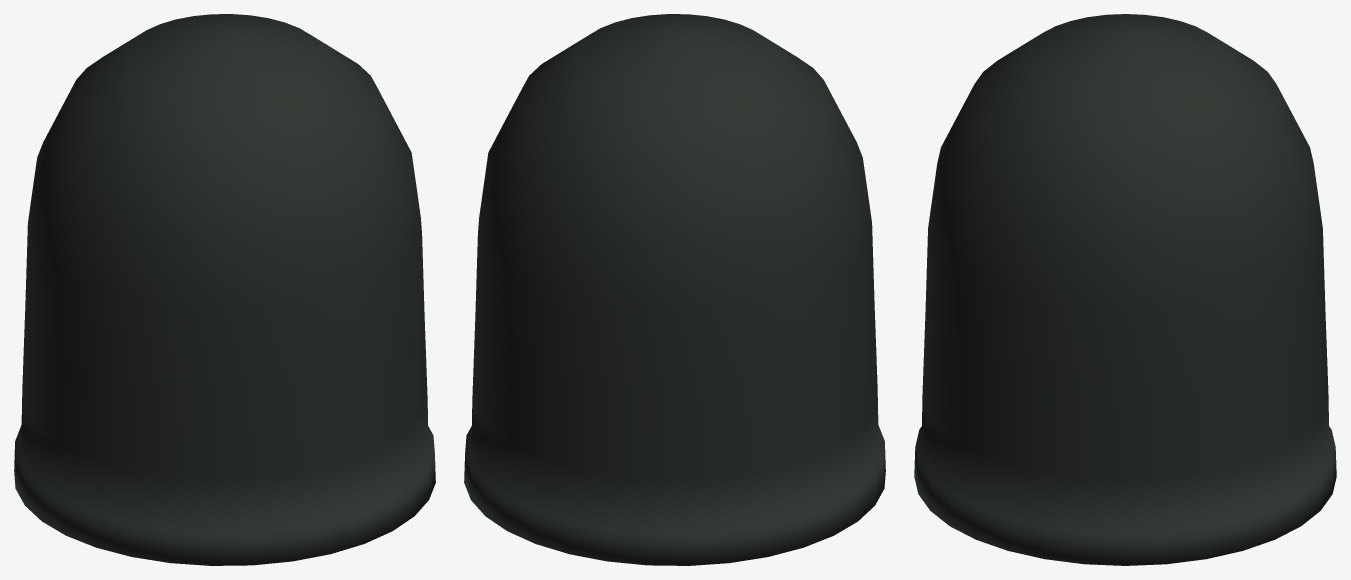
File: bell.obj
3 renders of one model, left to right at view 1: azimuth 30°, elevation 25°; view 2: azimuth 150°, elevation 25°; view 3: azimuth 270°, elevation 25°, orthographic.
Parts seen in each view (by area): view 1: 円柱; view 2: 円柱; view 3: 円柱.
Part boxes in pixels (x1,y1,x2,y2): 円柱: (14, 14, 435, 565); 円柱: (464, 14, 885, 565); 円柱: (914, 14, 1336, 565).
Size of the model in its own units: 3.46 by 4.01 by 3.46.
Materials: 1 (1 with a texture image).
